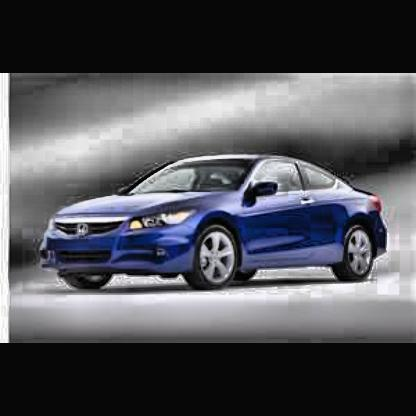Honda Accord Coupe 2012: (42, 157, 388, 292)
